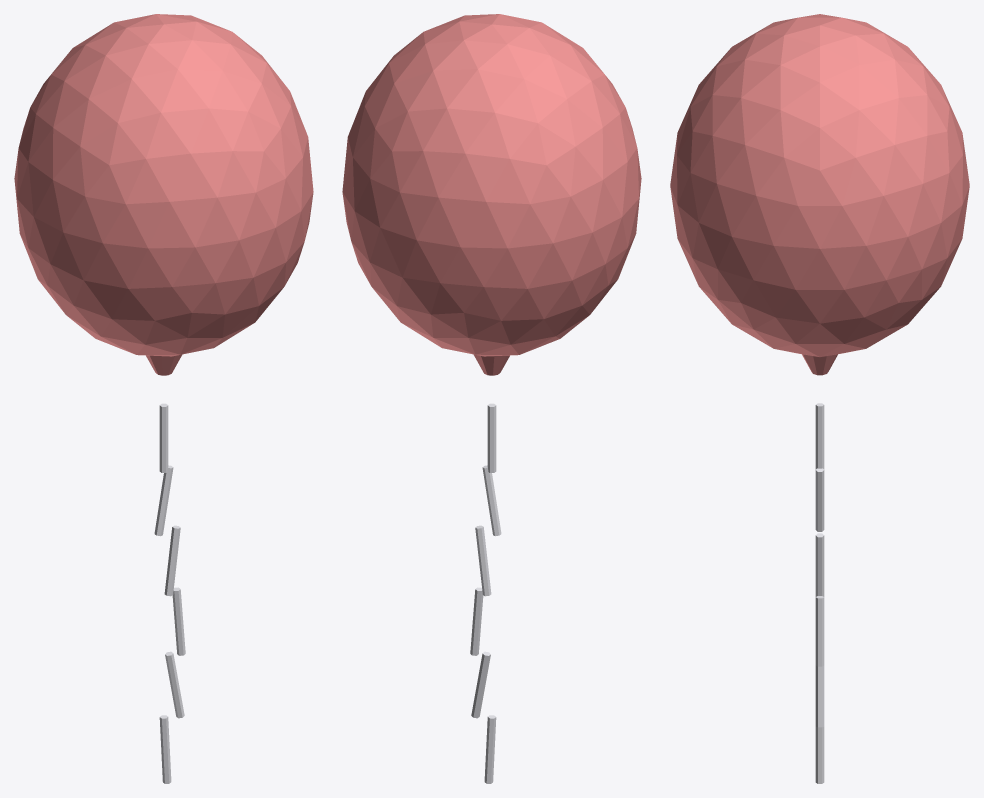
The model's file is balloon_round.fbx.
The picture shows the model from 3 angles, left to right: view 1: azimuth 30°, elevation 25°; view 2: azimuth 150°, elevation 25°; view 3: azimuth 270°, elevation 25°; orthographic projection.
Parts seen in each view (by area): view 1: Body, String0, String2, String5, String1, String3, String4; view 2: Body, String0, String2, String5, String1, String3, String4; view 3: Body, String3, String0, String1, String2, String4, String5.
Part boxes in pixels (x1=…): Body: x1=14, y1=14, x2=313, y2=356; String0: x1=159, y1=403, x2=168, y2=472; String2: x1=164, y1=525, x2=180, y2=596; String5: x1=159, y1=715, x2=171, y2=783; String1: x1=154, y1=465, x2=173, y2=536; String3: x1=172, y1=587, x2=185, y2=655; String4: x1=165, y1=651, x2=184, y2=718; Body: x1=342, y1=14, x2=641, y2=356; String0: x1=487, y1=403, x2=496, y2=472; String2: x1=475, y1=525, x2=491, y2=596; String5: x1=484, y1=715, x2=496, y2=783; String1: x1=482, y1=465, x2=501, y2=536; String3: x1=470, y1=587, x2=483, y2=655; String4: x1=471, y1=651, x2=490, y2=718; Body: x1=670, y1=14, x2=969, y2=356; String3: x1=815, y1=596, x2=824, y2=666; String0: x1=815, y1=403, x2=824, y2=469; String1: x1=815, y1=468, x2=824, y2=531; String2: x1=815, y1=533, x2=824, y2=596; String4: x1=815, y1=665, x2=824, y2=727; String5: x1=815, y1=727, x2=824, y2=783.
Size of the model in its own units: 1.4 by 3.9 by 1.4.
